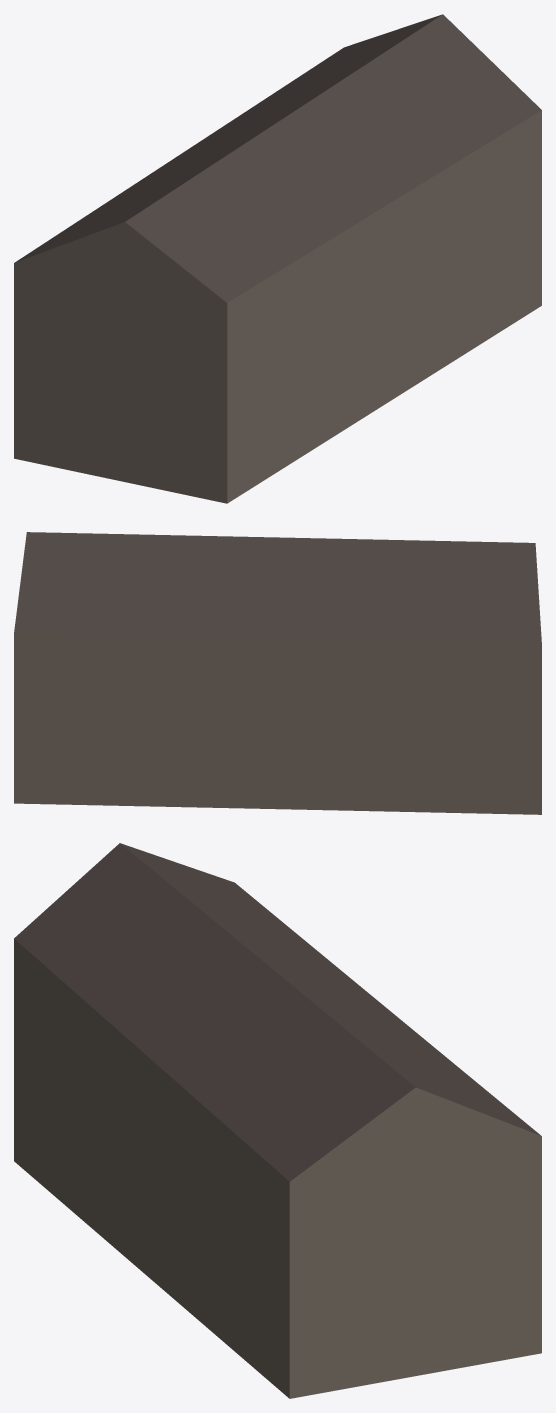
3 views of the same model, one above another, from view 1: azimuth 30°, elevation 25°; view 2: azimuth 150°, elevation 25°; view 3: azimuth 270°, elevation 25° (orthographic). The views are drawn at different scales.
Parts seen in each view (by area): view 1: HP-w1512481852; view 2: HP-w1512481852; view 3: HP-w1512481852.
Part boxes in pixels (x1,y1,x2,y2): HP-w1512481852: [14, 14, 541, 503]; HP-w1512481852: [14, 532, 541, 814]; HP-w1512481852: [14, 843, 541, 1398].
Size of the model in its own units: 17.74 by 7.98 by 13.23.
